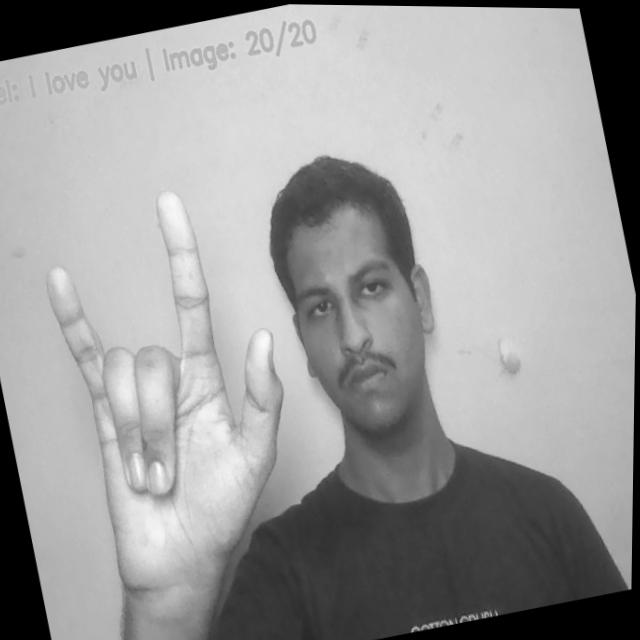I love you: (23, 170, 319, 599)
